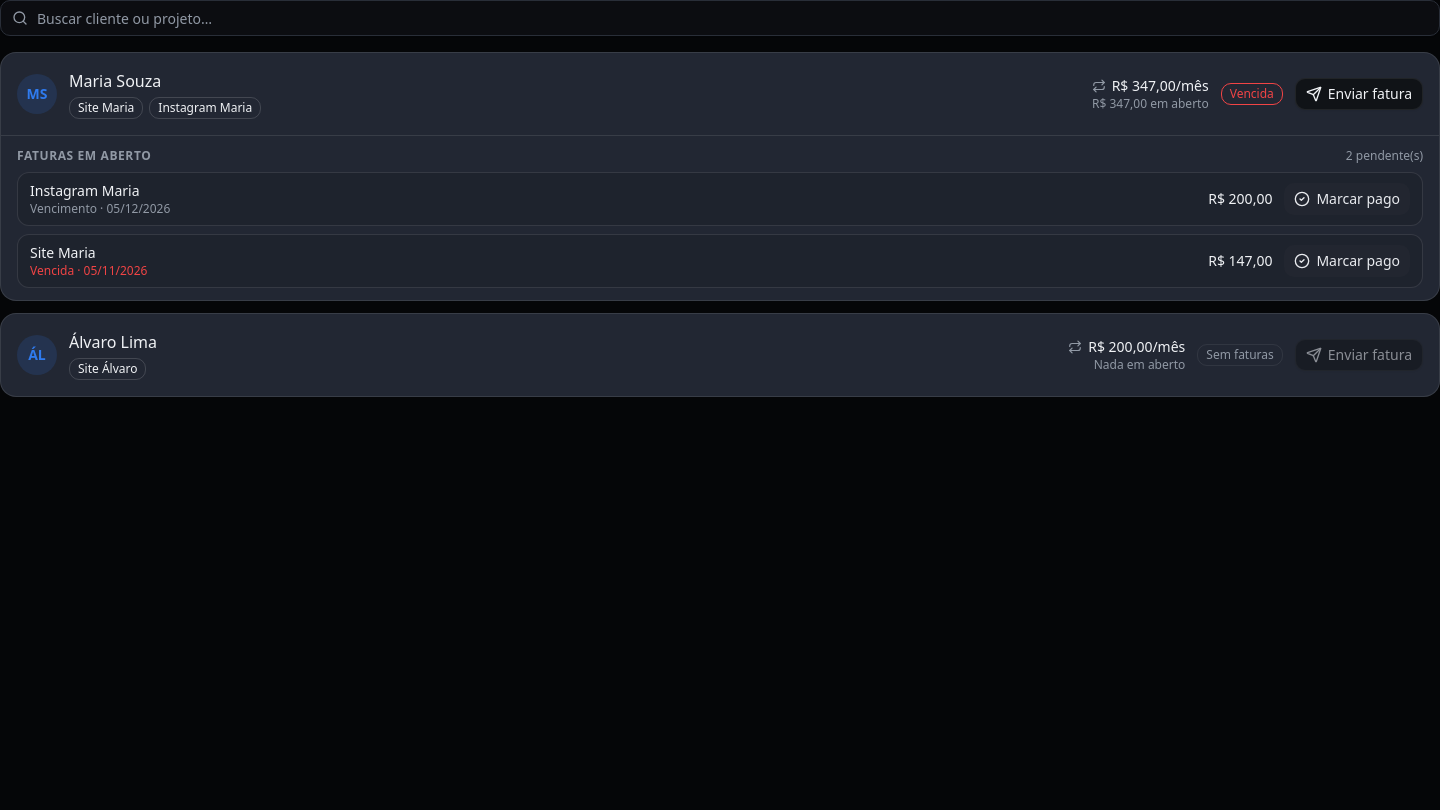
Test case: lista de clientes do Financeiro › cliente com vários projetos: o botão abre o seletor e envia só os projetos marcados
Later steps or results of the test are not shown.
Click the button "Enviar fatura" in the row of "R$ 347,00/mês" at [1359, 94], box [1295,78,1423,110]
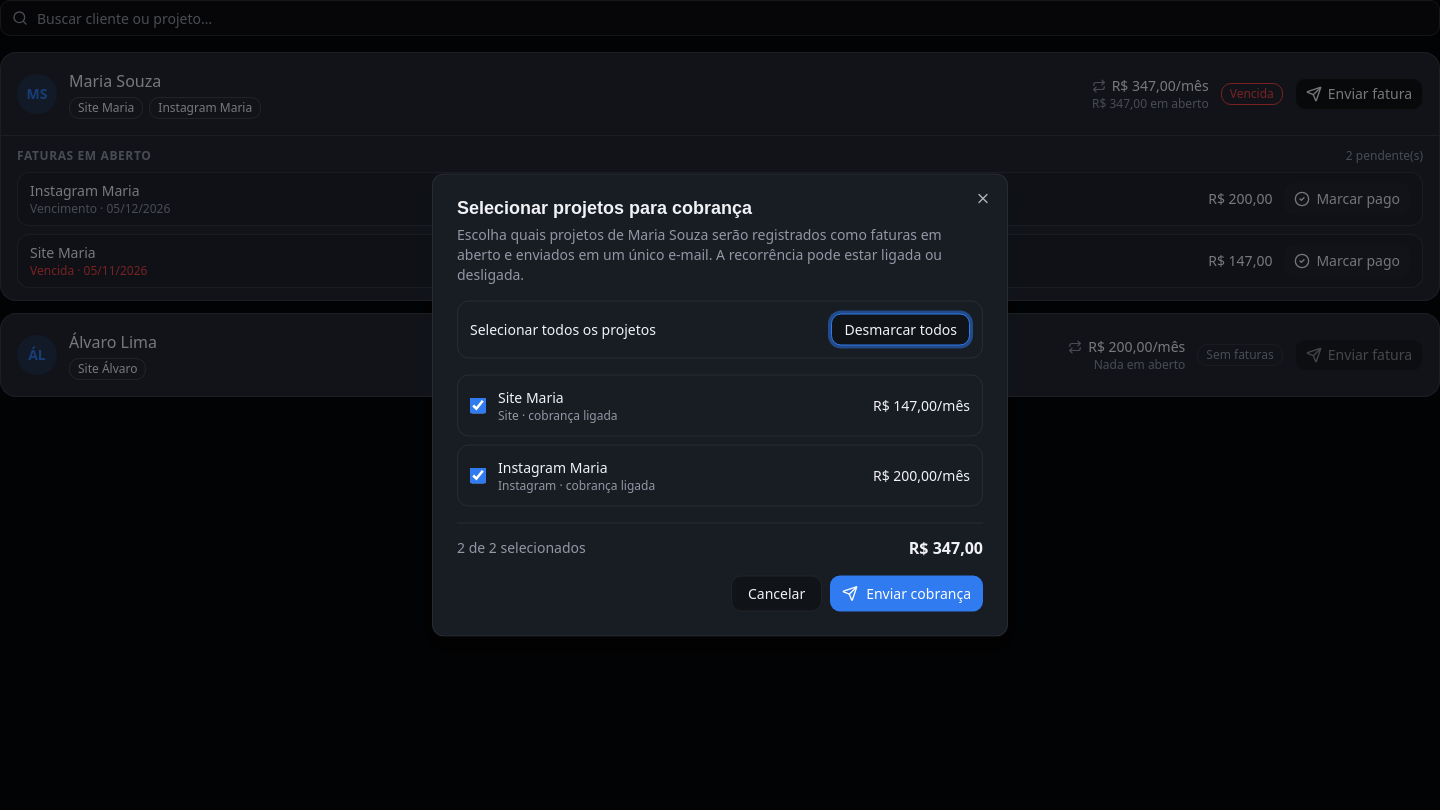
Expected: the heading "Selecionar projetos para cobrança" is shown, [457,198,752,218]
Expected: the text "registrados como faturas em aberto" is shown, [457,224,942,284]
